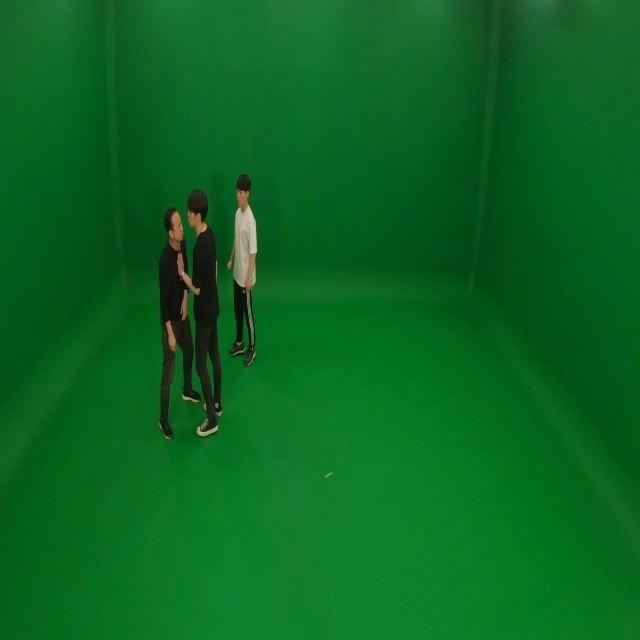fight: (156, 193, 225, 440)
non-fight: (223, 173, 259, 367)
